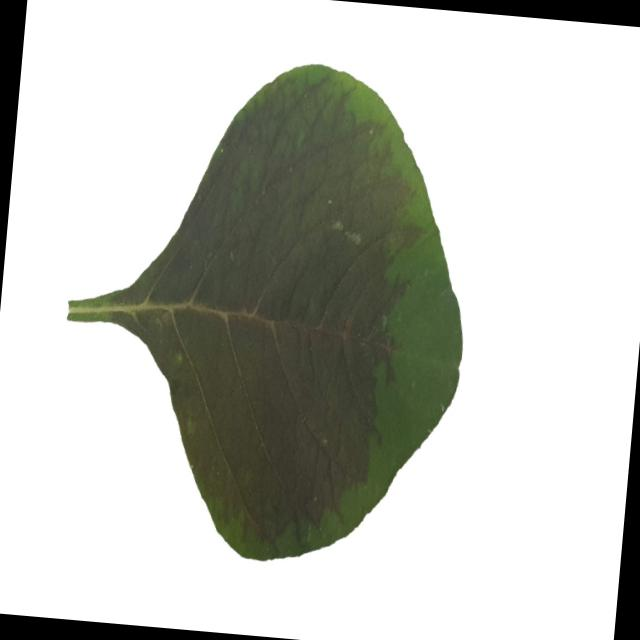Medicinal-Arive Dantu: (51, 37, 488, 581)
